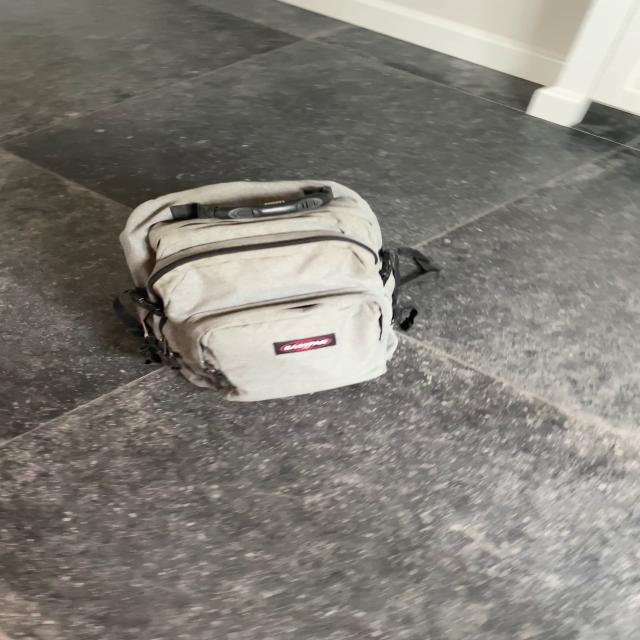backpack: (101, 172, 412, 406)
